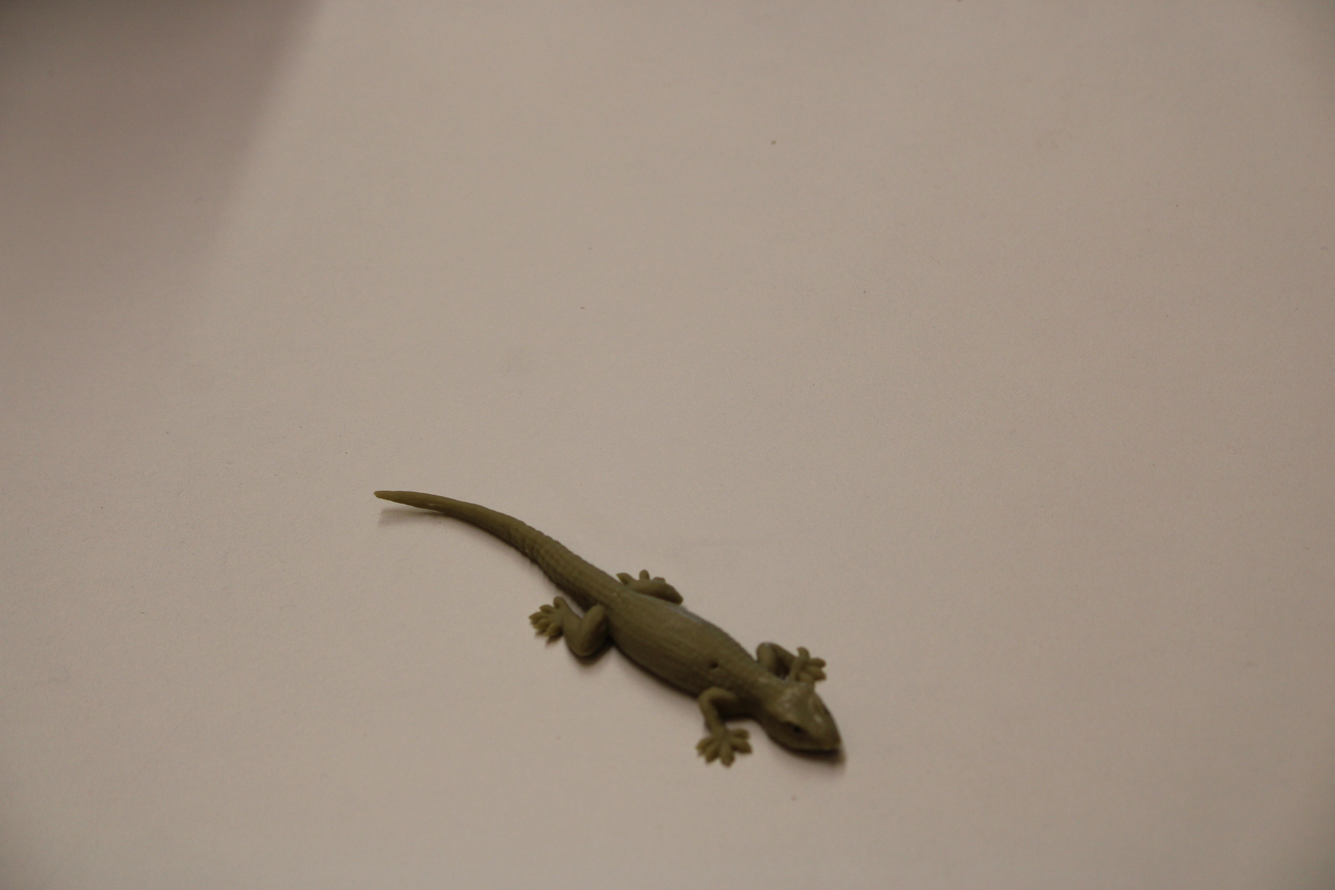lizard: (365, 465, 855, 778)
